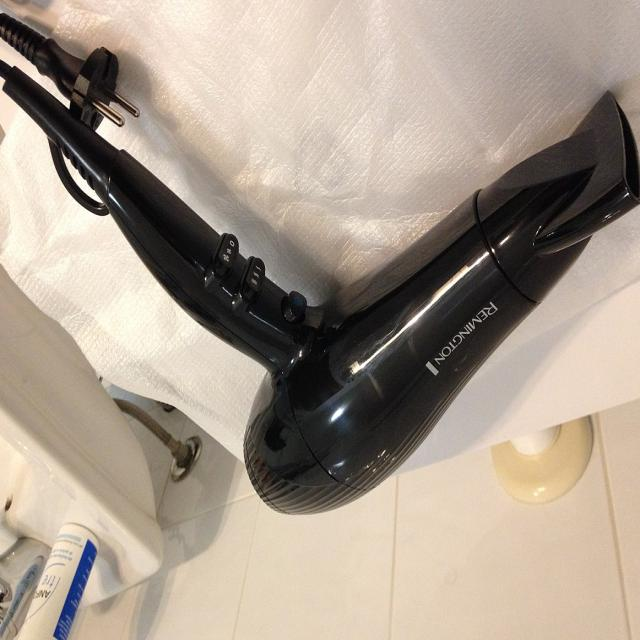dryer: (2, 65, 640, 518)
